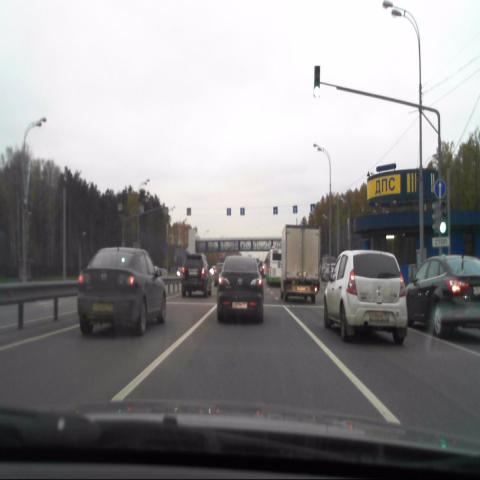4_1_1: (434, 180, 446, 199)
